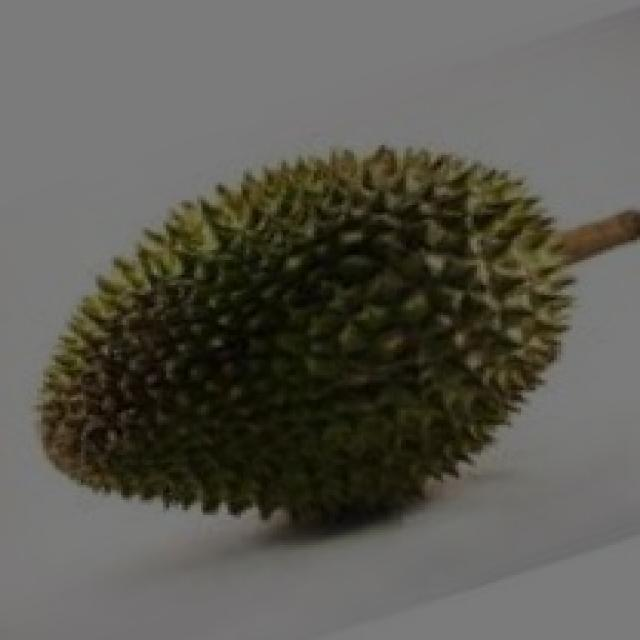fruit: (218, 135, 631, 570), (3, 187, 406, 575)
